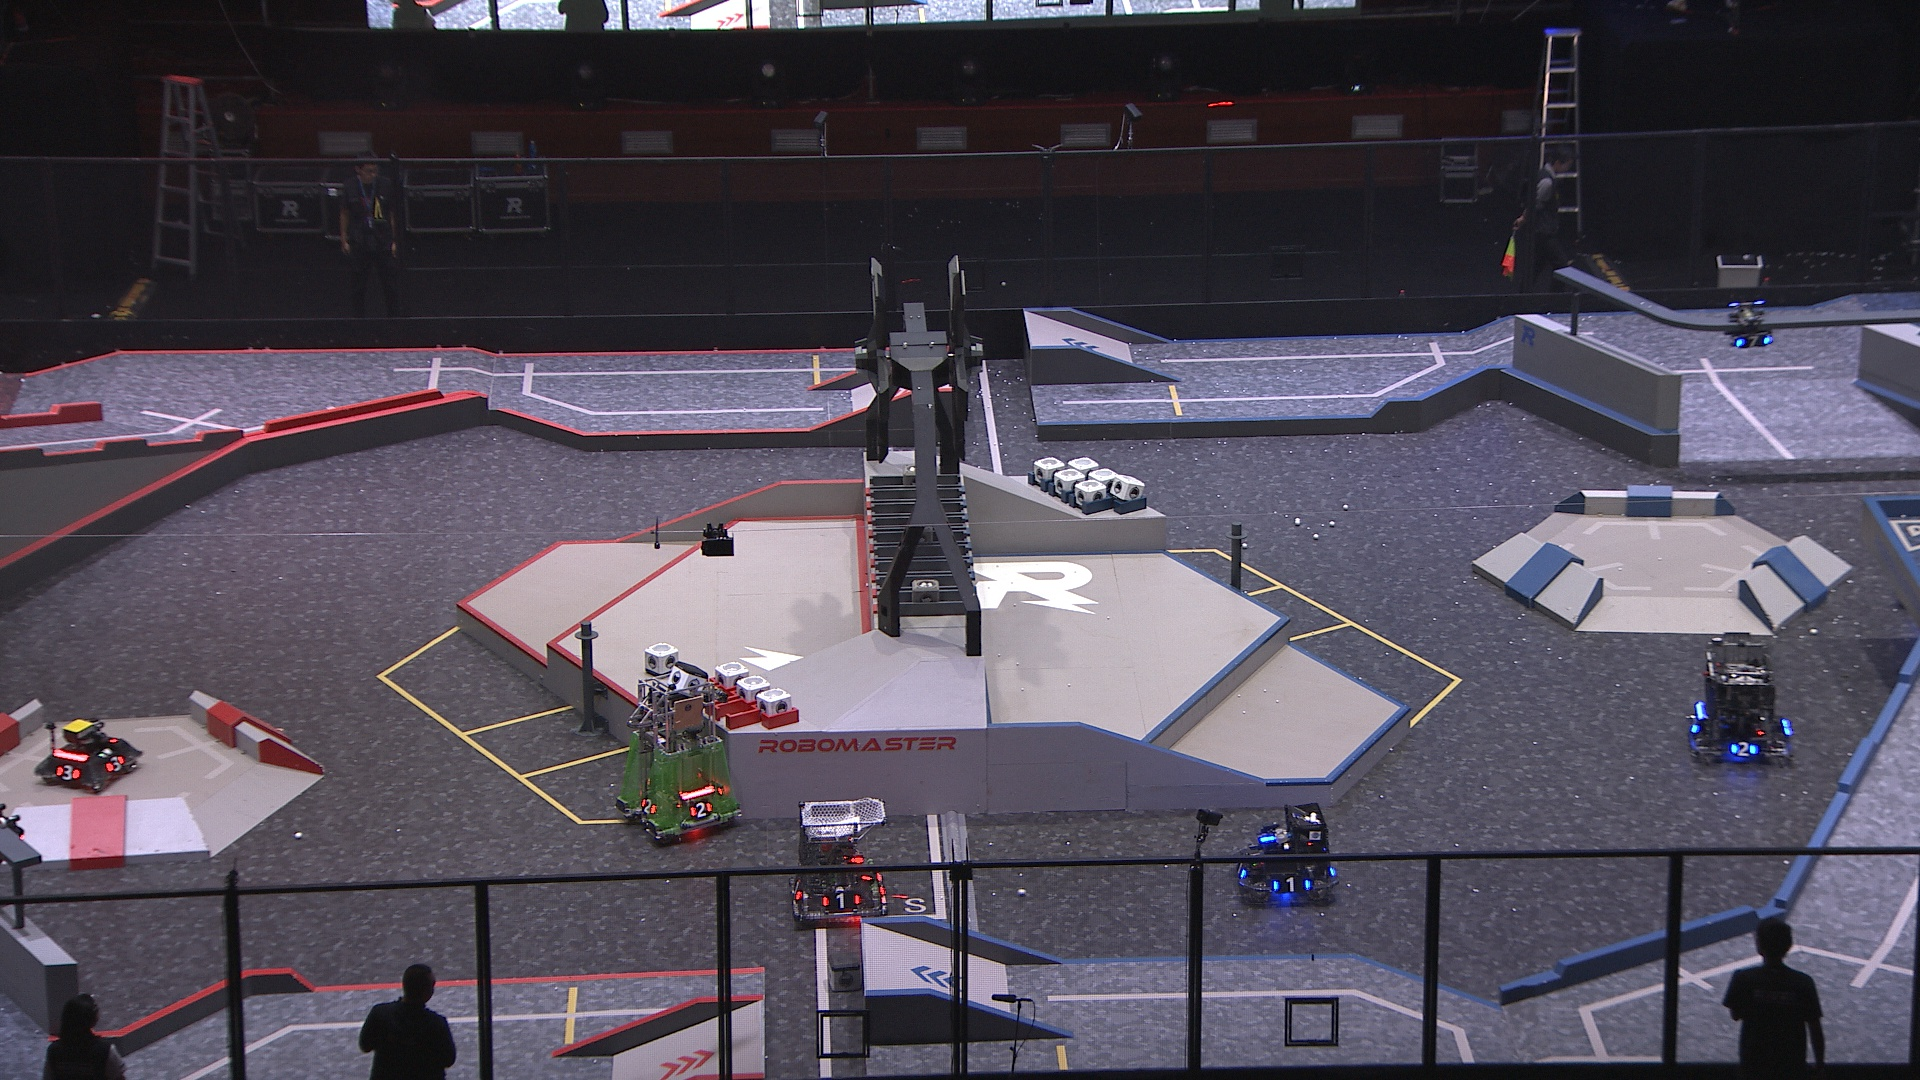armor: (822, 889, 861, 910), (1273, 874, 1313, 894), (1735, 334, 1774, 351), (688, 799, 713, 822), (1730, 741, 1759, 760), (54, 764, 82, 782), (640, 796, 659, 818), (105, 756, 125, 775), (793, 880, 806, 901), (1234, 861, 1249, 880)
car: (615, 673, 746, 849), (1689, 633, 1793, 770), (790, 799, 893, 927), (1233, 798, 1340, 906), (36, 716, 141, 793)
watcher: (1724, 297, 1776, 352)
